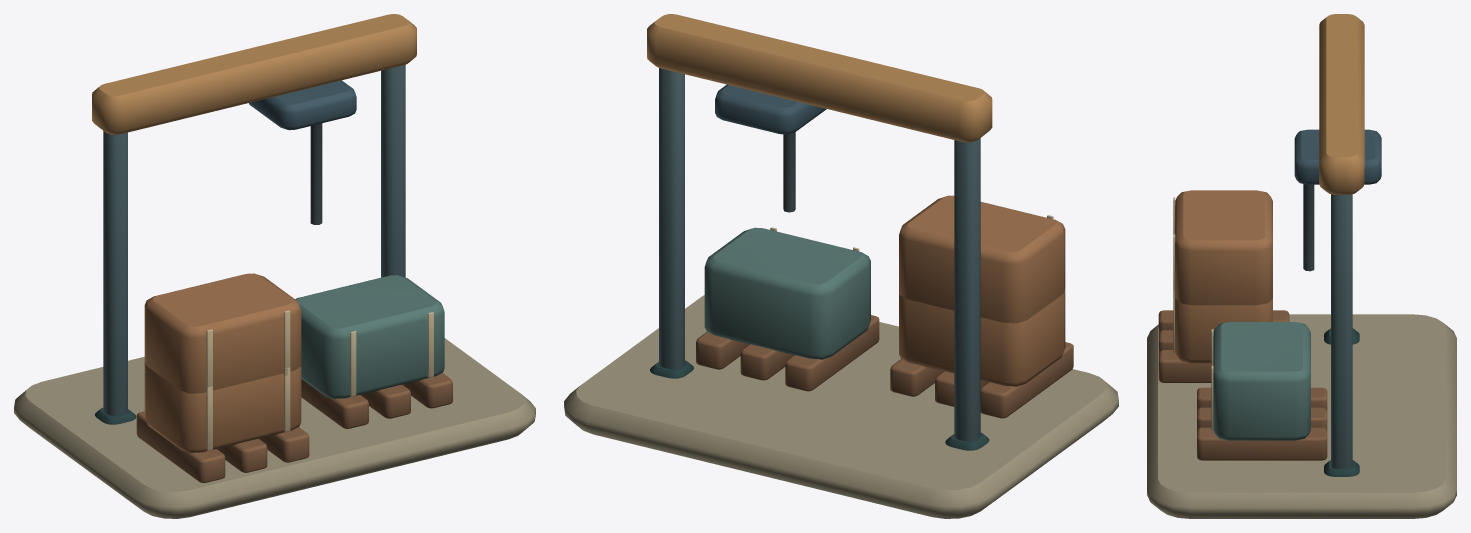
File: event_logistics_week.glb
3 renders of one model, left to right at view 1: azimuth 30°, elevation 25°; view 2: azimuth 150°, elevation 25°; view 3: azimuth 270°, elevation 25°, orthographic. The views are drawn at different scales.
Parts seen in each view (by area): view 1: EventLogisticsWeek; view 2: EventLogisticsWeek; view 3: EventLogisticsWeek.
Part boxes in pixels (x1,y1,x2,y2): EventLogisticsWeek: (14,14,535,518); EventLogisticsWeek: (564,14,1118,518); EventLogisticsWeek: (1147,14,1456,518).
Size of the model in its own units: 2.45 by 2.1 by 1.71.
